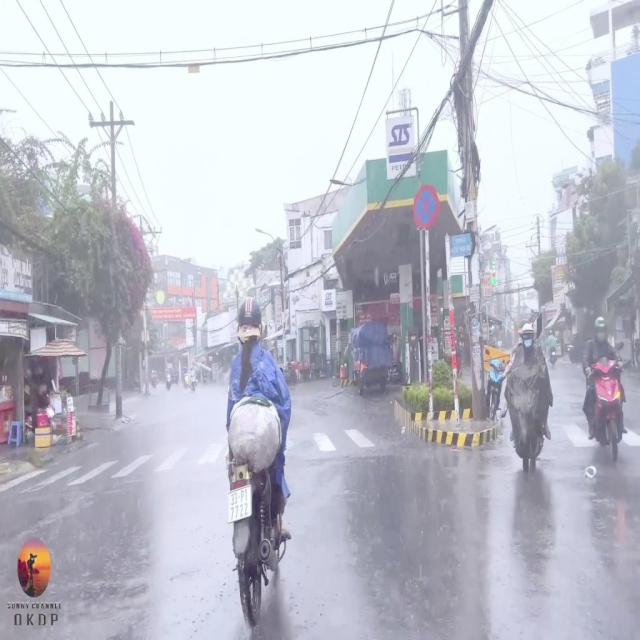cam_dung_xe_va_do_xe: (414, 185, 440, 231)
